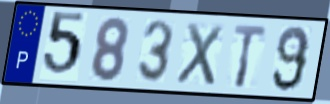3: (137, 18, 176, 86)
5: (40, 11, 88, 83)
8: (89, 15, 131, 83)
9: (270, 24, 311, 94)
T: (231, 22, 269, 90)
X: (173, 20, 225, 89)
